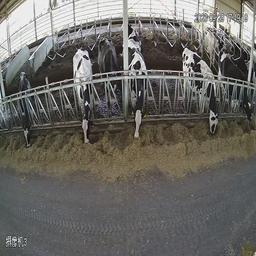cow: (181, 51, 217, 135), (219, 52, 254, 121), (128, 39, 149, 142), (72, 52, 92, 147), (98, 38, 121, 109), (16, 72, 35, 152), (190, 13, 216, 61)
